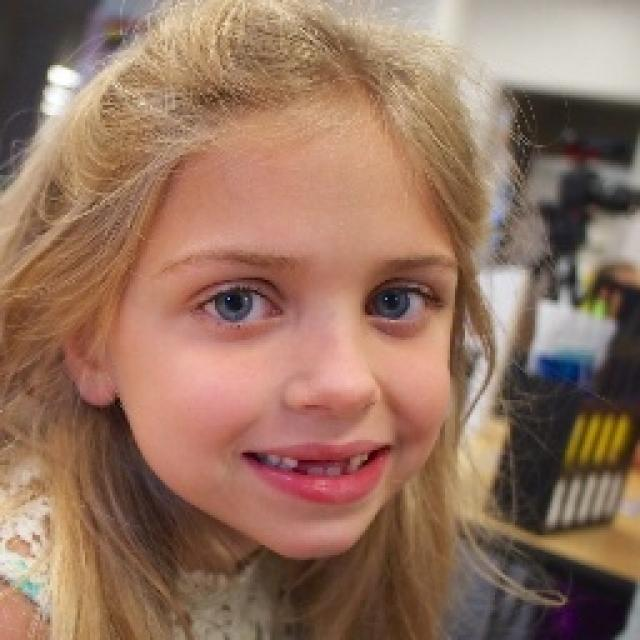earlobe: (50, 293, 117, 409)
